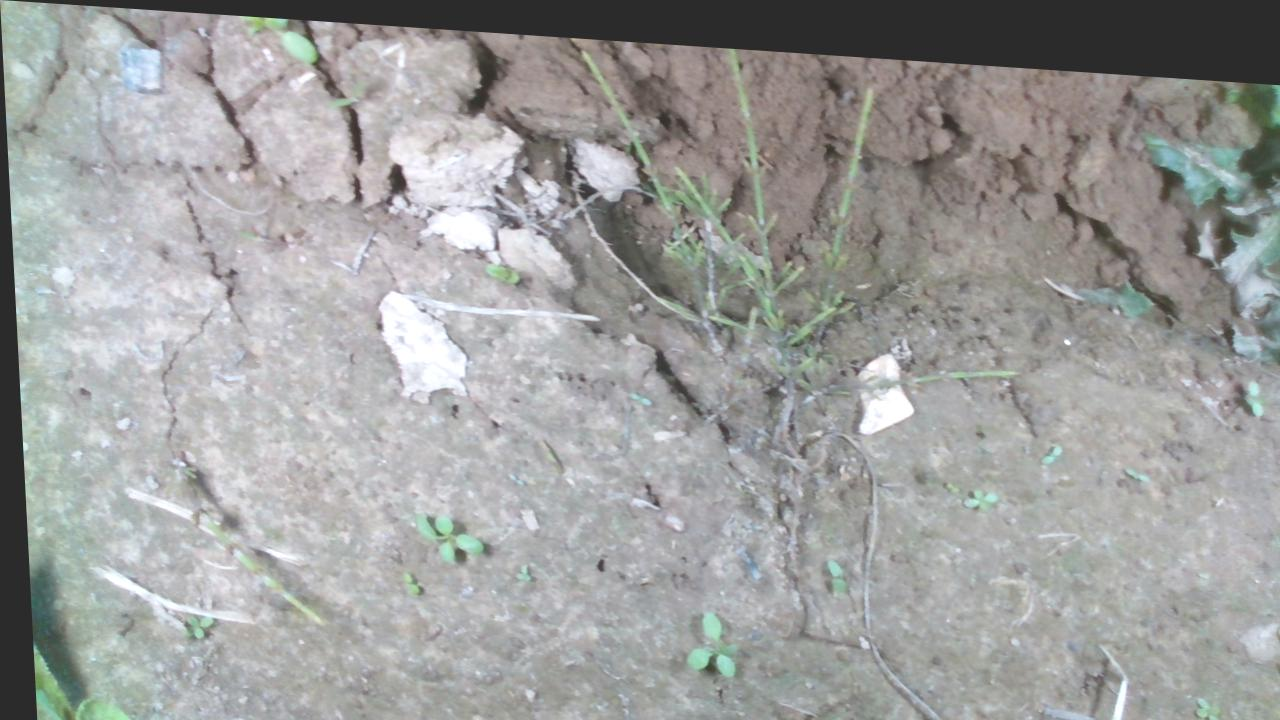weed: (673, 599, 734, 668), (407, 503, 479, 560), (1185, 677, 1216, 715), (955, 473, 994, 500), (818, 544, 839, 584), (1242, 359, 1262, 401), (176, 610, 207, 637), (392, 562, 415, 591), (1035, 426, 1058, 450), (939, 465, 954, 480)
